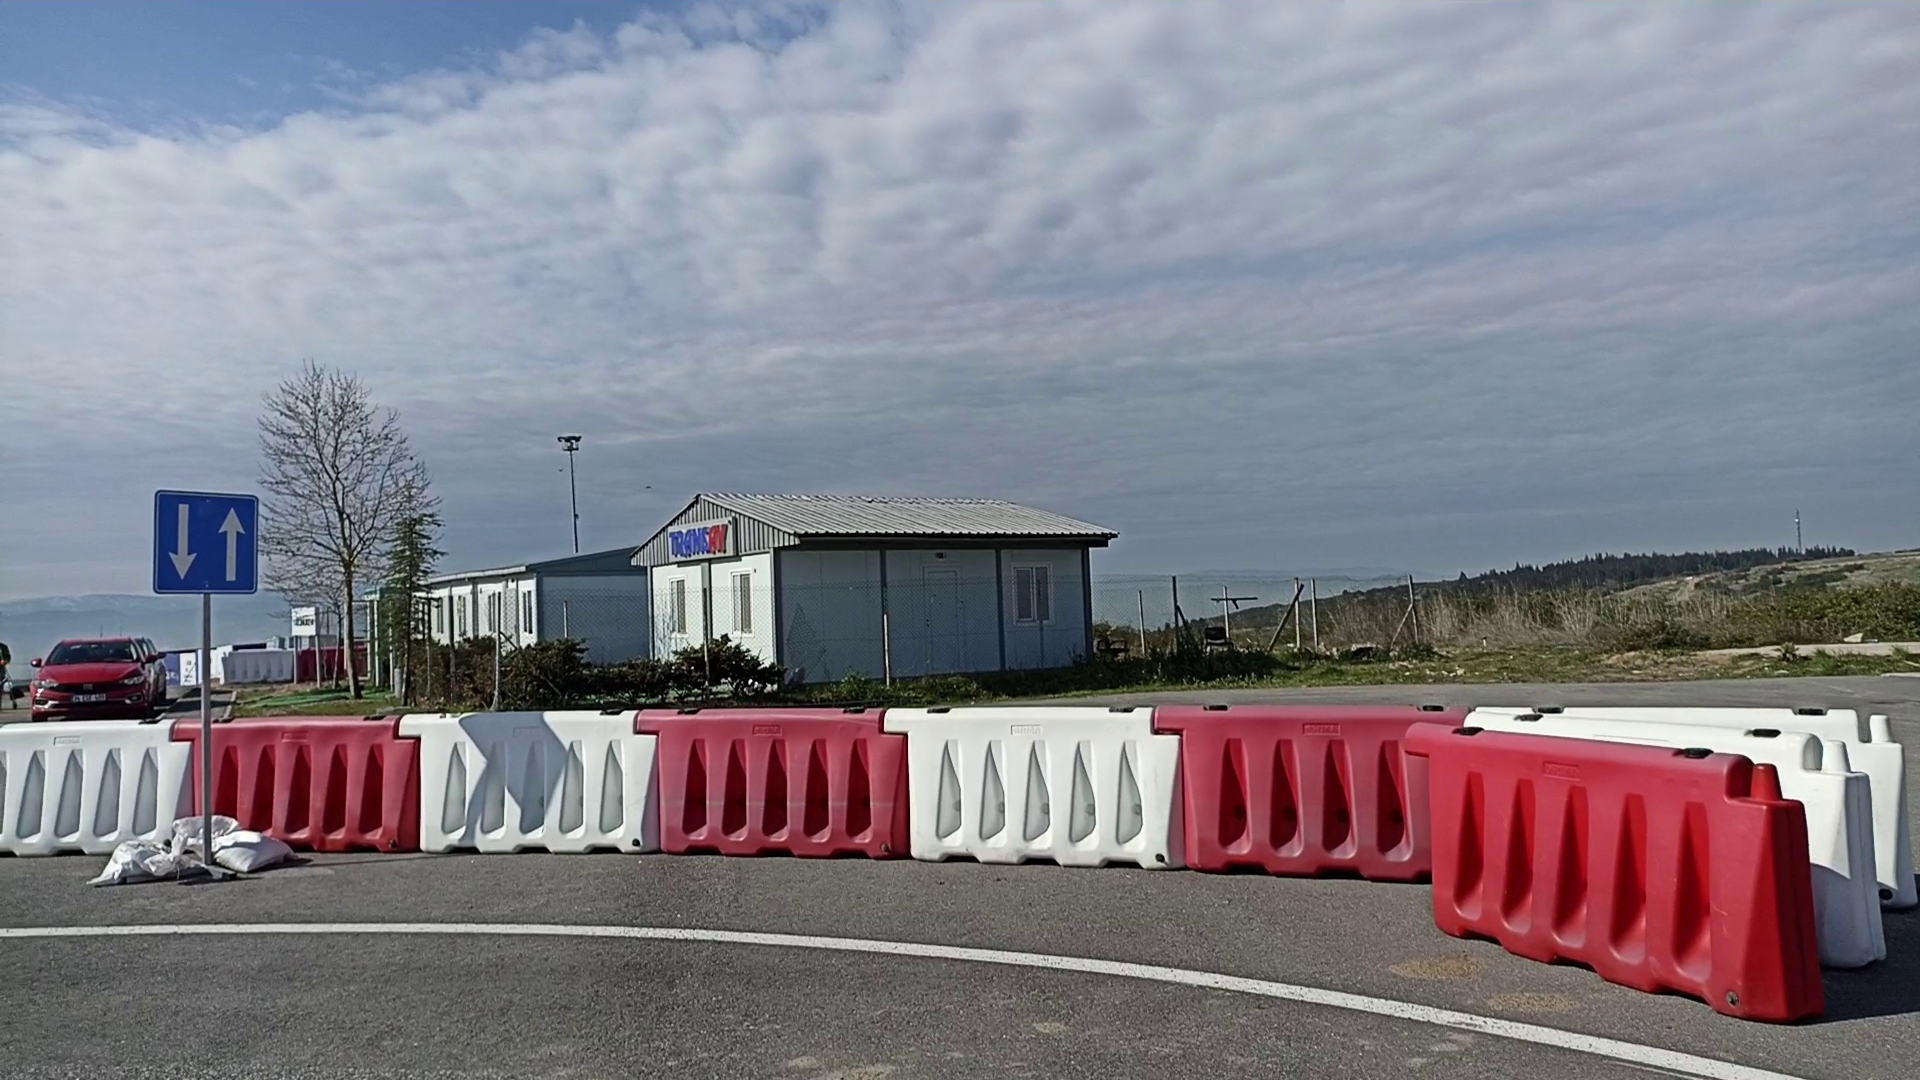oneway: (152, 487, 260, 597)
